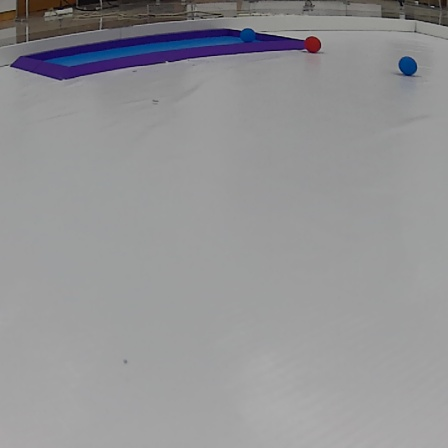blue: (397, 50, 419, 80), (241, 25, 258, 44)
blue_aim: (13, 28, 314, 77)
red: (301, 33, 324, 58)
